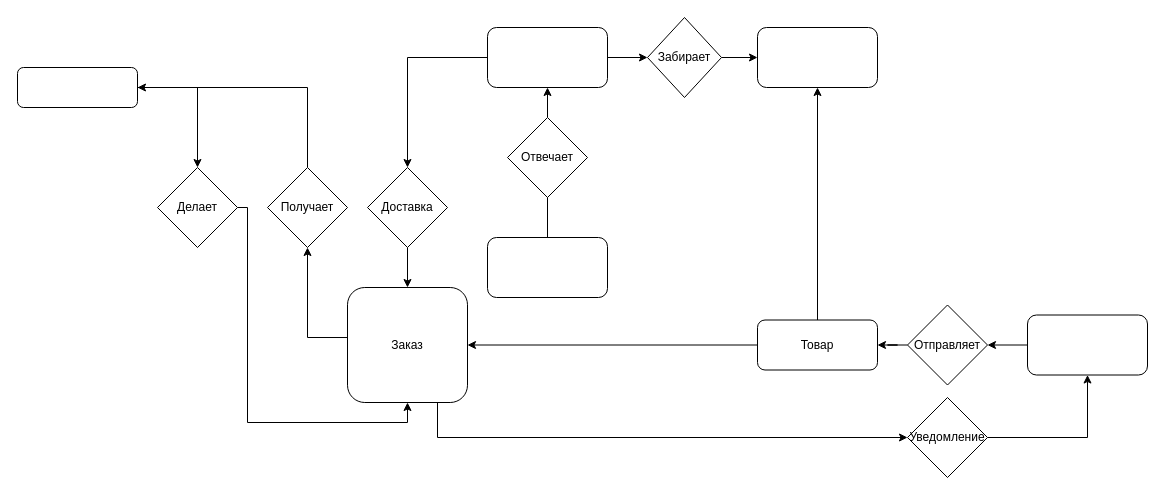
This 1165x495 diagram has some shape labels left out. Each missing label, with the centre of its shape:
"Покупатель" goes at pixel 77 87.
"Поставщик" goes at pixel 1087 344.
"Склад почты" goes at pixel 817 57.
"Служба доставки" goes at pixel 547 57.
"Сотрудник" goes at pixel 547 267.
